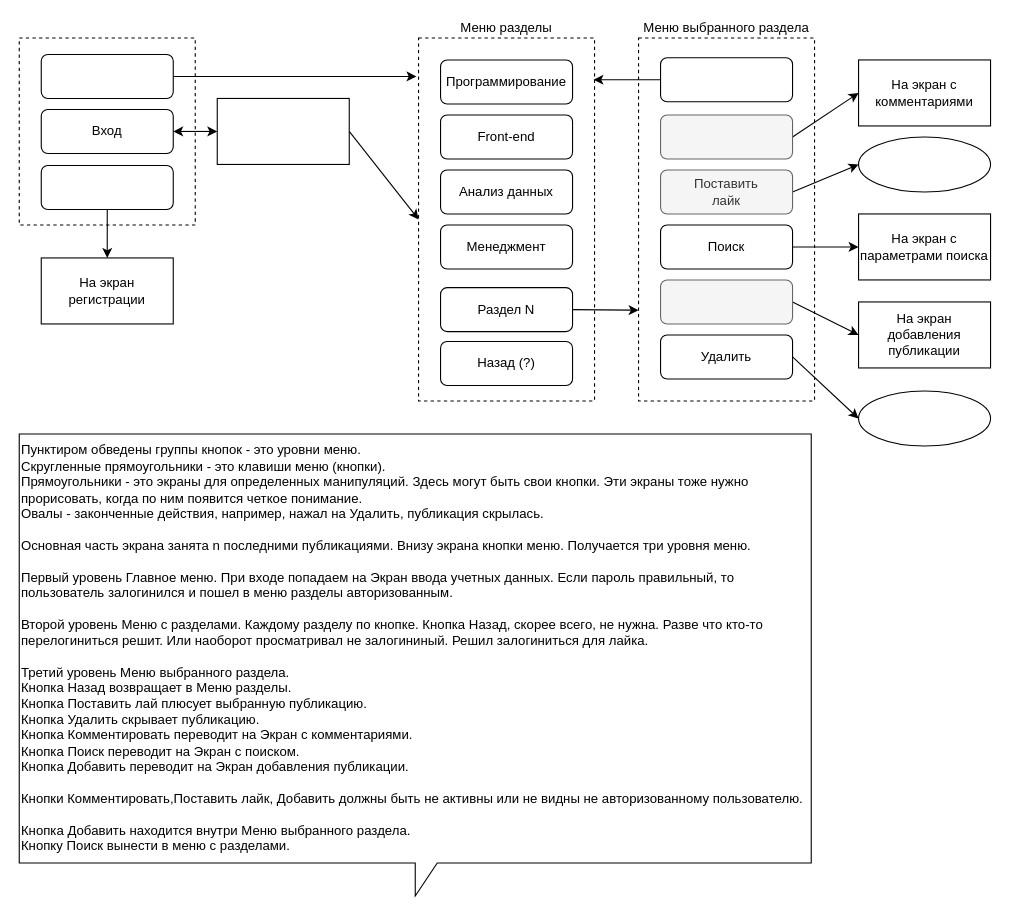
Some shapes in this 1010 by 915 pixel diagram are drawn without their labels. Each missing label, with the box of its shape:
Главное меню: (18, 37, 195, 225)
Добавить: (659, 279, 793, 324)
Комментировать: (659, 114, 793, 159)
Лайк публикации: (857, 136, 991, 192)
На экран ввода учетных данных: (216, 97, 349, 164)
Назад: (659, 57, 793, 102)
Разделы: (40, 53, 173, 98)
Регистрация: (40, 164, 173, 210)
Удалить публикацию: (857, 390, 991, 446)
